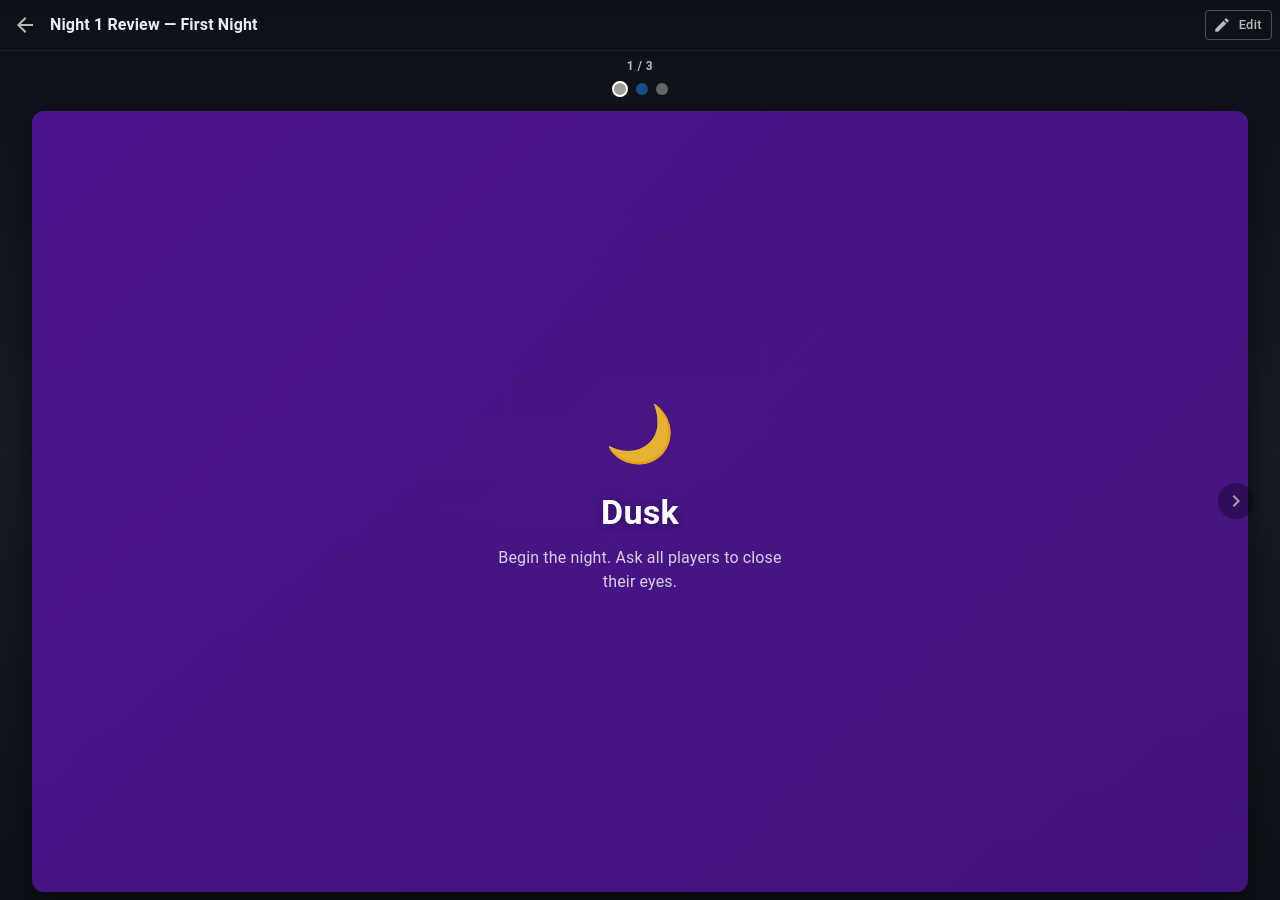
Test: NightHistoryReview › edit mode toggle › updates aria-label when toggled to edit mode
Step 1. Click the button with aria-label "Switch to edit mode" → (1238, 25), box [1205,10,1272,40]
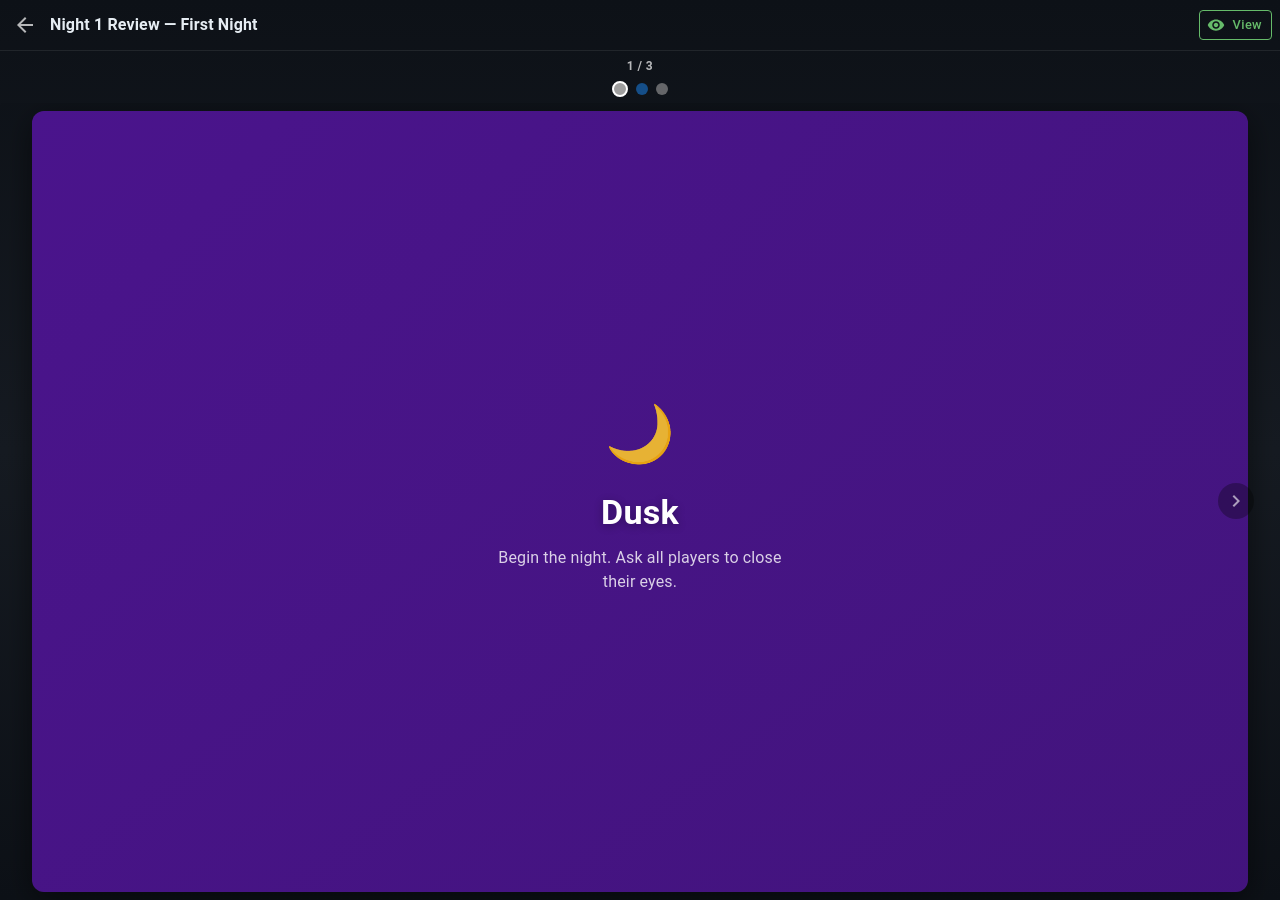
Check: the button with aria-label "Switch to view mode" is shown, box [1199,10,1272,40]
